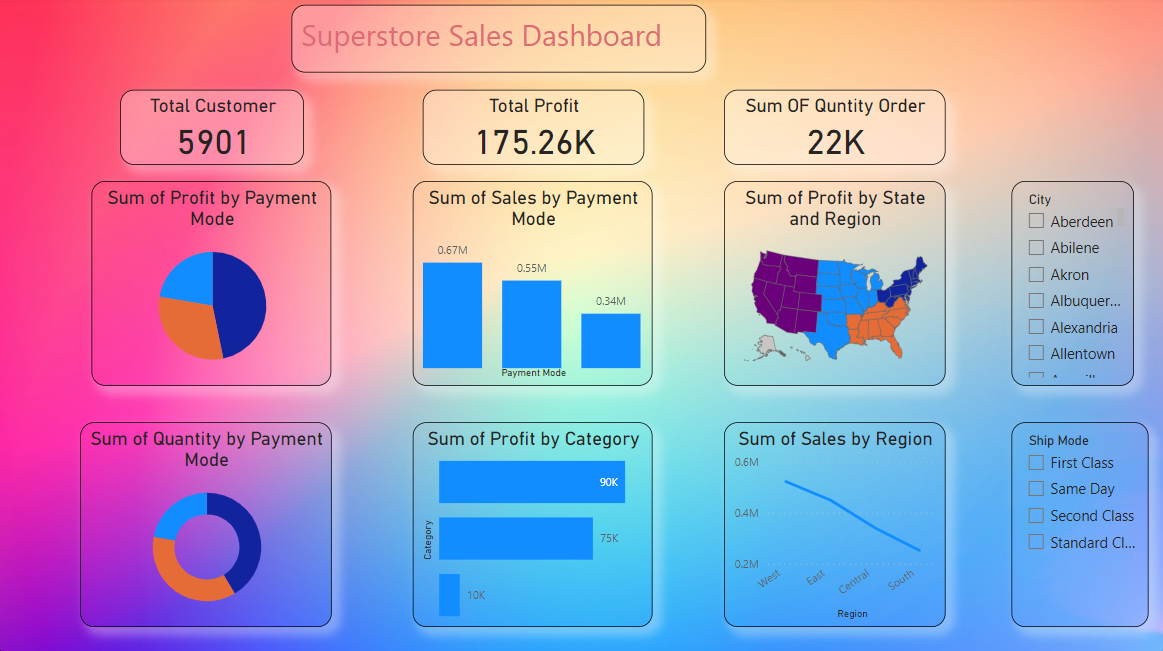

What the dashboard file says about the page in this screenshot:
{"tool":"powerbi","page":{"name":"Page 1","canvas":[1280,720],"ordinal":0},"visuals":[{"type":"card","title":"Total Customer","fields":{"Values":["CountNonNull(Sheet1.Customer ID)"]},"box":[133.1,102.9,201.7,82.3],"z":0},{"type":"card","title":"Total Profit","fields":{"Values":["Sum(Sheet1.Profit)"]},"box":[465.2,102.9,242.9,82.3],"z":1000},{"type":"card","title":"Sum OF Quntity Order","fields":{"Values":["Sum(Sheet1.Quantity)"]},"box":[795.9,102.9,242.9,82.3],"z":2000},{"type":"pieChart","fields":{"Category":["Sheet1.Payment Mode"],"Y":["Sum(Sheet1.Profit)"]},"box":[101.5,203.1,263.5,225],"z":3000},{"type":"donutChart","fields":{"Y":["Sum(Sheet1.Quantity)"],"Category":["Sheet1.Payment Mode"]},"box":[89.2,467.9,275.8,225],"z":4000},{"type":"columnChart","fields":{"Y":["Sum(Sheet1.Sales)"],"Category":["Sheet1.Payment Mode"]},"box":[454.2,203.1,263.5,225],"z":5000},{"type":"barChart","fields":{"Y":["Sum(Sheet1.Profit)"],"Category":["Sheet1.Category"]},"box":[454.2,467.9,263.5,225],"z":6000},{"type":"shapeMap","fields":{"Value":["Sum(Sheet1.Profit)"],"Category":["Sheet1.State"],"Series":["Sheet1.Region"]},"box":[796,203,243,225],"z":7000},{"type":"lineChart","fields":{"Category":["Sheet1.Region"],"Y":["Sum(Sheet1.Sales)"]},"box":[796,468,243,225],"z":8000},{"type":"slicer","fields":{"Values":["Sheet1.City"]},"box":[1111.5,203.1,134.5,225],"z":9000},{"type":"slicer","fields":{"Values":["Sheet1.Ship Mode"]},"box":[1111,468,150,225],"z":10000},{"type":"textbox","box":[321.1,9.6,455.6,74.1],"z":10001}]}

Visuals, with their boxes in screenshot pixels (x1, y1, x2, y2), scaled from the page's 1280x720 canvas onto the 1163x651 screenshot:
"Total Customer" card: Rect(121, 93, 304, 167)
"Total Profit" card: Rect(423, 93, 643, 167)
"Sum OF Quntity Order" card: Rect(723, 93, 944, 167)
pieChart - Sheet1.Payment Mode x Sum(Sheet1.Profit): Rect(92, 184, 332, 387)
donutChart - Sum(Sheet1.Quantity) x Sheet1.Payment Mode: Rect(81, 423, 332, 626)
columnChart - Sum(Sheet1.Sales) x Sheet1.Payment Mode: Rect(413, 184, 652, 387)
barChart - Sum(Sheet1.Profit) x Sheet1.Category: Rect(413, 423, 652, 626)
shapeMap - Sum(Sheet1.Profit) x Sheet1.State: Rect(723, 184, 944, 387)
lineChart - Sheet1.Region x Sum(Sheet1.Sales): Rect(723, 423, 944, 627)
slicer - Sheet1.City: Rect(1010, 184, 1132, 387)
slicer - Sheet1.Ship Mode: Rect(1009, 423, 1146, 627)
textbox: Rect(292, 9, 706, 76)
